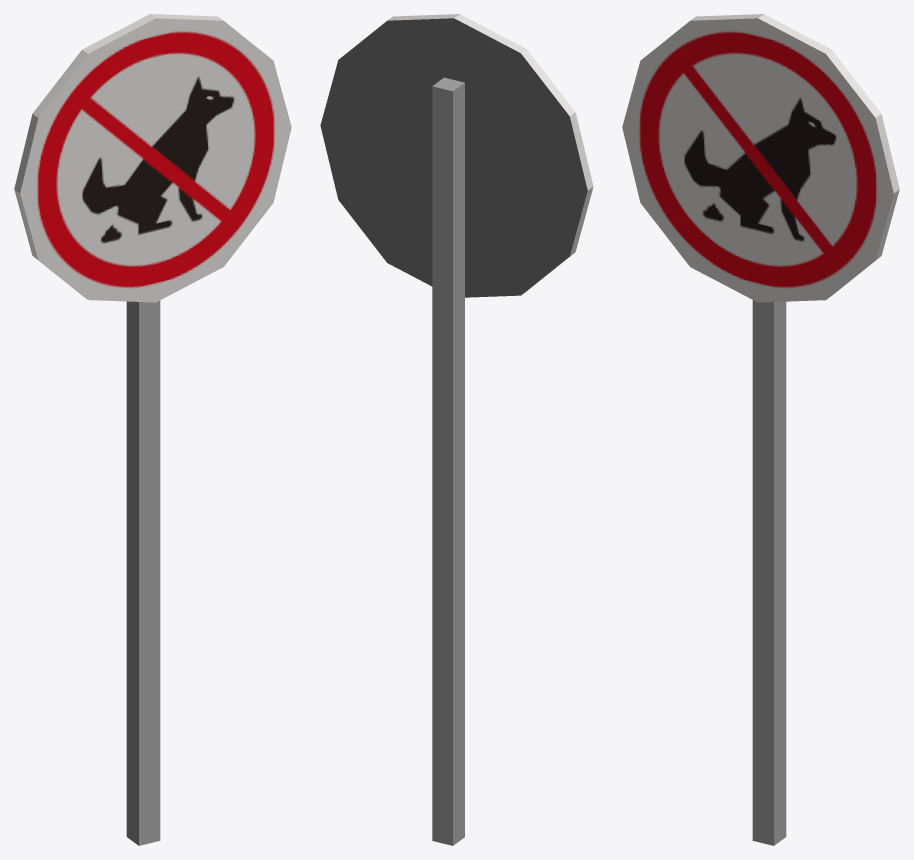
The model's file is Traffic_Sing_C_V2.fbx.
The picture shows the model from 3 angles, left to right: view 1: azimuth 30°, elevation 25°; view 2: azimuth 150°, elevation 25°; view 3: azimuth 330°, elevation 25°; orthographic projection.
Visible parts, largest first — view 1: Traffic_Sing_C; view 2: Traffic_Sing_C; view 3: Traffic_Sing_C.
Boxes of the visible parts, x1=… form: Traffic_Sing_C: x1=14, y1=14, x2=291, y2=845; Traffic_Sing_C: x1=320, y1=14, x2=593, y2=845; Traffic_Sing_C: x1=622, y1=14, x2=899, y2=845.
Bounding box in the file's own units: 53.82 × 157 × 6.21.
